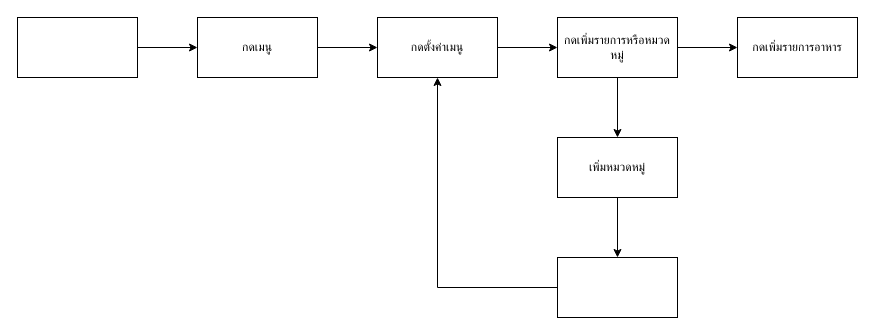
The diagram is 875 pixels wide and 335 high, and some of its shapes have lost their labels. The shapes that lost their labels are listed below. From the top down, each one's centre as x and y in pixels, then its label:
At (77,47): "เพิ่มรายการ".
At (617,287): "สร้างหมวดหมู่".
